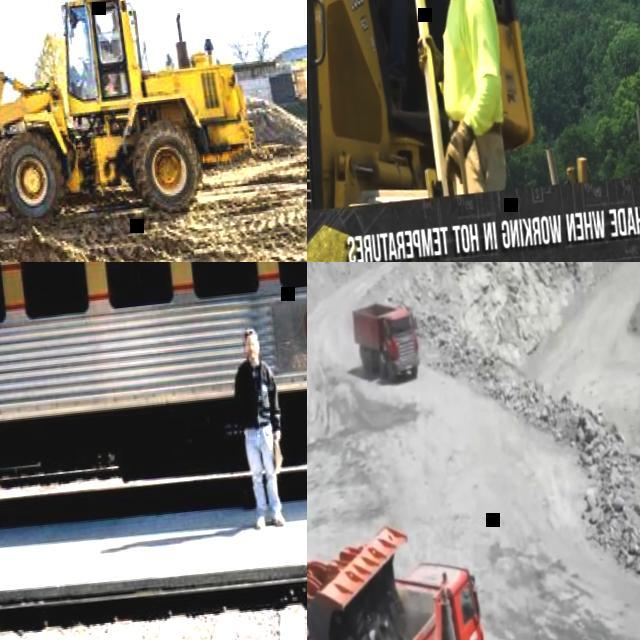Robbery: (410, 0, 533, 221), (213, 309, 297, 553)
